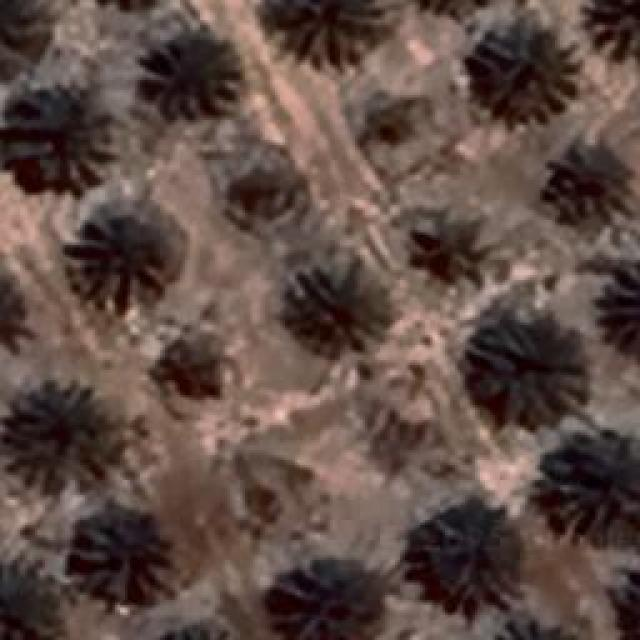PalmTree: (24, 39, 61, 603), (462, 318, 587, 426), (462, 9, 576, 122), (405, 504, 520, 608), (534, 418, 638, 532), (277, 257, 385, 365), (2, 67, 100, 185), (0, 387, 112, 484), (138, 28, 242, 122), (270, 560, 390, 640), (78, 210, 178, 305), (70, 518, 175, 600), (544, 135, 638, 220), (274, 0, 388, 65), (416, 215, 506, 290), (221, 158, 306, 225), (161, 331, 235, 404), (596, 257, 640, 367), (582, 0, 637, 62), (481, 615, 594, 640), (0, 264, 27, 353), (613, 560, 640, 640), (148, 619, 245, 640), (398, 0, 510, 16), (619, 559, 640, 640), (146, 624, 248, 640), (0, 266, 17, 354), (399, 0, 511, 10), (75, 0, 184, 10), (627, 560, 640, 640)
